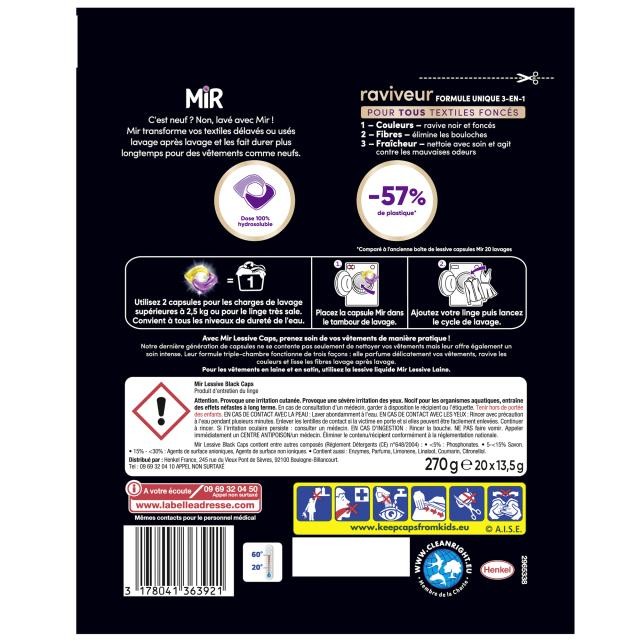GHS_Symbol_EXCLAMATION_MARK: (132, 382, 190, 441)
